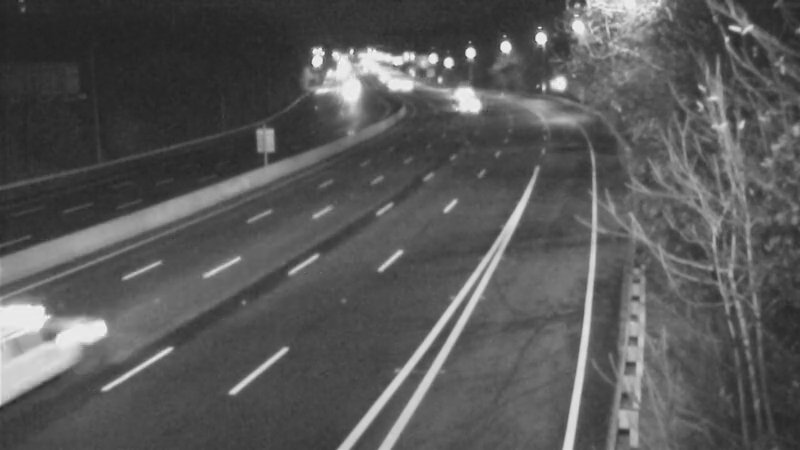vehicle: (1, 298, 100, 408), (366, 62, 416, 112), (438, 71, 488, 121), (448, 79, 498, 129), (324, 68, 374, 118)
